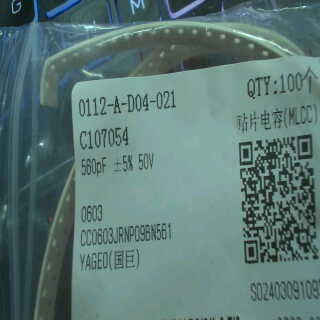560pF: (78, 156, 107, 178)
